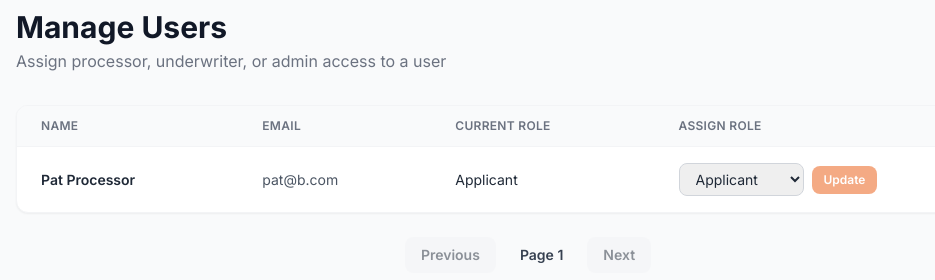
Test: UserManagement — role assignment › shows the backend error inline when the update is rejected (e.g. self-role edge case, unknown role)
Expected: the text "Pat Processor" is shown, [17, 146, 238, 212]
Select "Admin" in the dropdown: (741, 180) [678, 163, 804, 196]
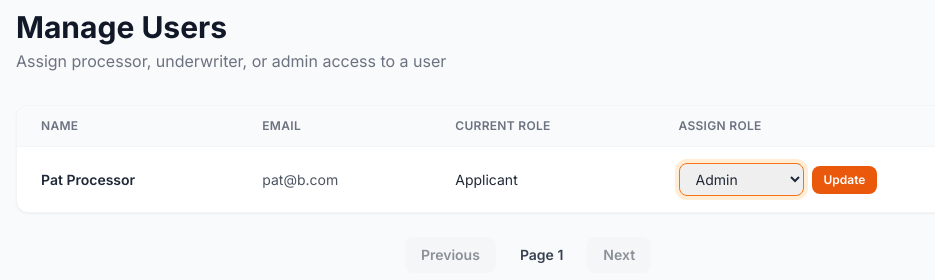
Click the button "Update": click(844, 180) [812, 166, 877, 194]
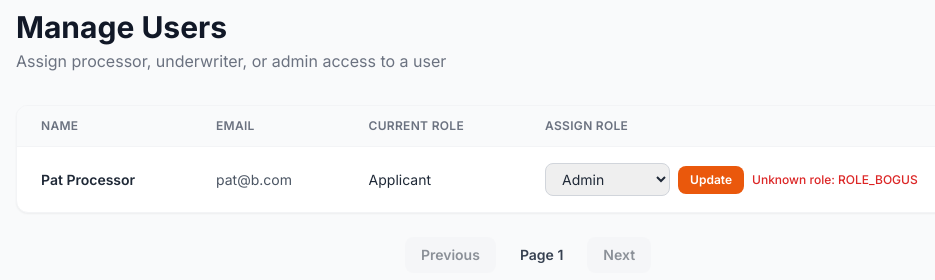
Expected: the text "Unknown role: ROLE_BOGUS" is shown, [752, 172, 918, 188]
